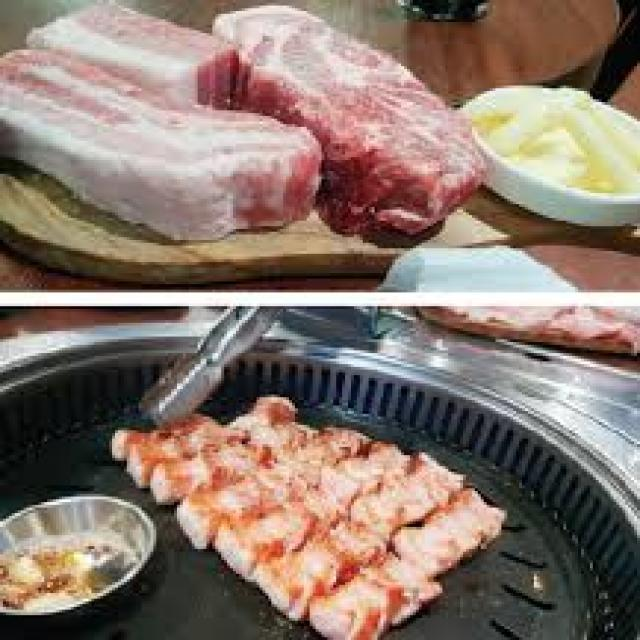pork: (3, 50, 324, 243), (217, 6, 488, 234), (27, 6, 239, 110)
